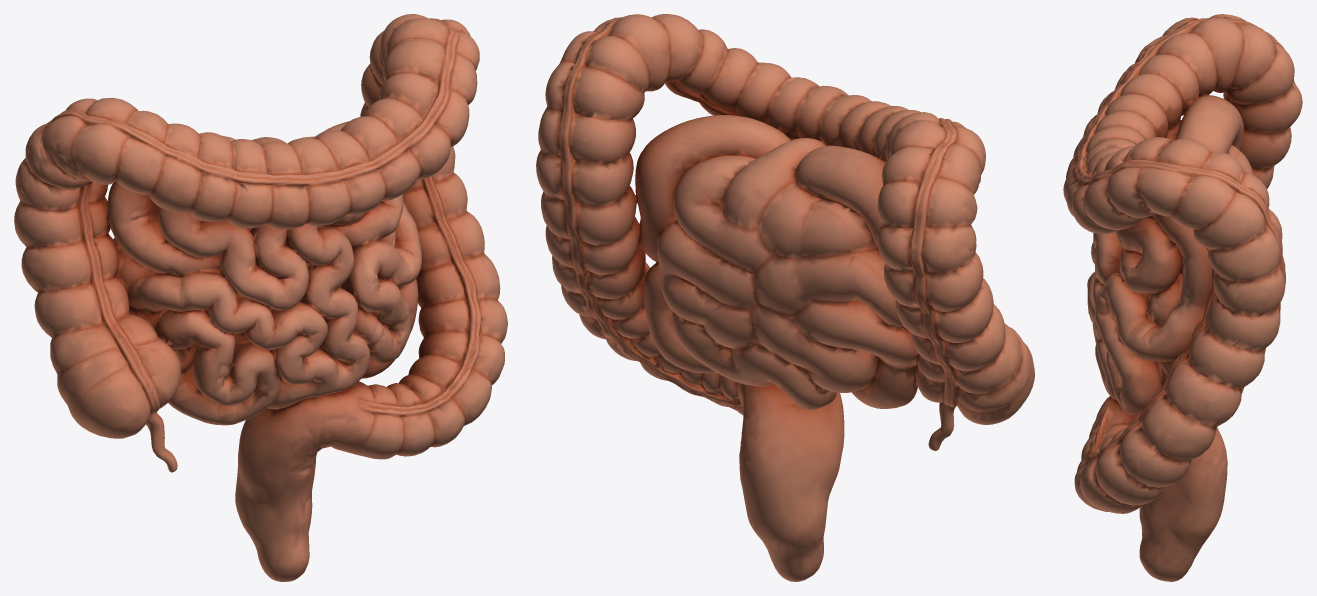
File: intestine.glb
3 renders of one model, left to right at view 1: azimuth 30°, elevation 25°; view 2: azimuth 150°, elevation 25°; view 3: azimuth 270°, elevation 25°, orthographic. The views are drawn at different scales.
Parts seen in each view (by area): view 1: tripo_node_62b379d0-ce68-4c4f-9391-eb1f11136f30; view 2: tripo_node_62b379d0-ce68-4c4f-9391-eb1f11136f30; view 3: tripo_node_62b379d0-ce68-4c4f-9391-eb1f11136f30.
Boxes of the visible parts, x1=… form: tripo_node_62b379d0-ce68-4c4f-9391-eb1f11136f30: x1=14, y1=14, x2=507, y2=581; tripo_node_62b379d0-ce68-4c4f-9391-eb1f11136f30: x1=536, y1=14, x2=1034, y2=581; tripo_node_62b379d0-ce68-4c4f-9391-eb1f11136f30: x1=1063, y1=14, x2=1302, y2=581.
Size of the model in its own units: 0.8858 by 0.9999 by 0.4268.
Materials: 1 (1 with a texture image).
